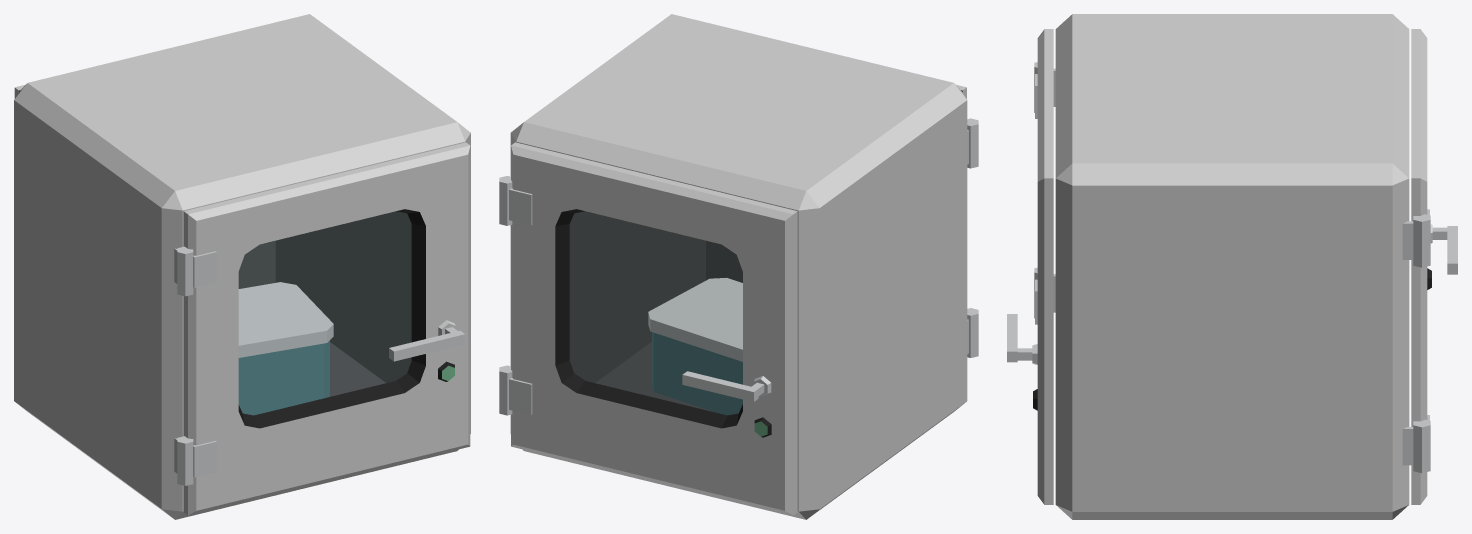
File: pass-box-hatch-3588d9.glb
3 views of the same model, side by side, from view 1: azimuth 30°, elevation 25°; view 2: azimuth 150°, elevation 25°; view 3: azimuth 270°, elevation 25° (orthographic). The views are drawn at different scales.
Visible parts, largest first — view 1: carcass, door-front-slab, door-front-glass, tote, door-back-slab; view 2: carcass, door-back-slab, door-back-glass, tote, door-front-slab; view 3: carcass, door-front-slab, door-back-slab.
Part boxes in pixels (left/top/right/bottom): carcass: left=14, top=14, right=470, bottom=519; door-front-slab: left=183, top=142, right=470, bottom=515; door-front-glass: left=239, top=212, right=410, bottom=414; tote: left=238, top=282, right=333, bottom=415; door-back-slab: left=14, top=84, right=275, bottom=288; carcass: left=499, top=14, right=978, bottom=519; door-back-slab: left=509, top=142, right=797, bottom=515; door-back-glass: left=570, top=212, right=742, bottom=414; tote: left=648, top=277, right=742, bottom=415; door-front-slab: left=706, top=85, right=966, bottom=282; carcass: left=1034, top=14, right=1430, bottom=519; door-front-slab: left=1007, top=29, right=1053, bottom=504; door-back-slab: left=1411, top=29, right=1457, bottom=504.
Bounding box in the file's own units: 0.58 × 0.59 × 0.676.
